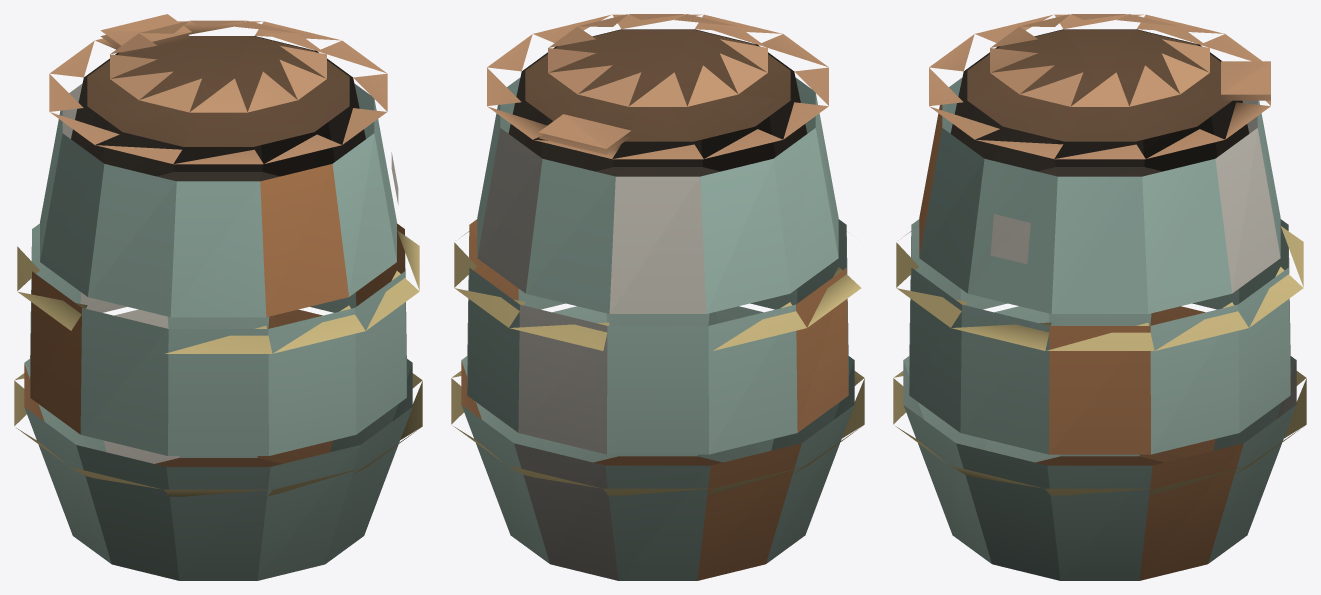
Rendered from butt.lod.glb.
3 views of the same model, side by side, from view 1: azimuth 30°, elevation 25°; view 2: azimuth 150°, elevation 25°; view 3: azimuth 270°, elevation 25° (orthographic).
Parts seen in each view (by area): view 1: butt.001; view 2: butt.001; view 3: butt.001.
Boxes of the visible parts, x1,y1,x2,y2 form: butt.001: (14,14,422,580); butt.001: (451,14,864,580); butt.001: (893,14,1306,580).
Bounding box in the file's own units: 0.8936 × 1.13 × 0.8936.
